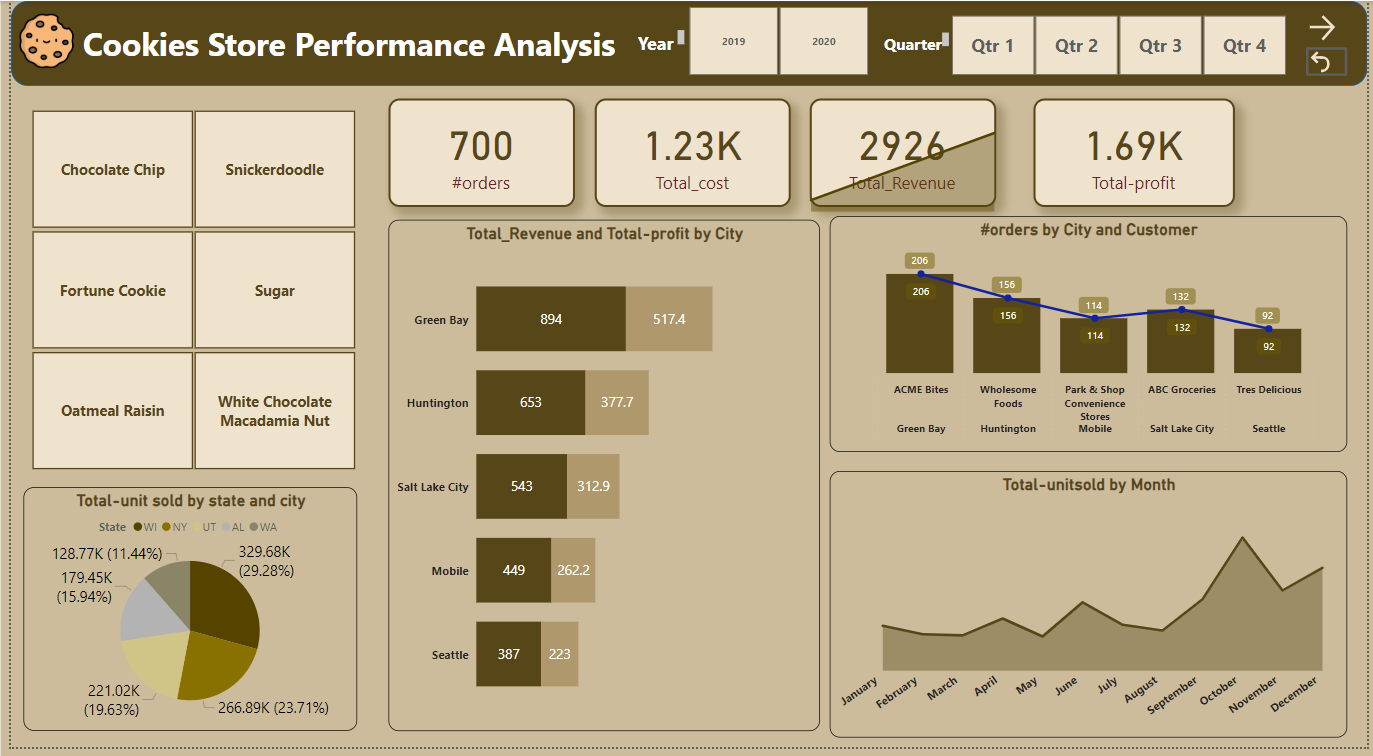

The dashboard page shown, as its layout file describes it:
{"tool":"powerbi","page":{"name":"Dashboard","canvas":[1600,880],"ordinal":0},"visuals":[{"type":"card","fields":{"Values":["DAX.#orders"]},"box":[445.3,115,219.7,128.3],"z":0},{"type":"card","fields":{"Values":["DAX.Total_cost"]},"box":[688.6,115,231.5,128.3],"z":1000},{"type":"card","fields":{"Values":["DAX.Total_Revenue"]},"box":[942.2,115,219.7,128.3],"z":2000},{"type":"card","fields":{"Values":["DAX.Total-profit"]},"box":[1206.2,115,237.4,128.3],"z":3000},{"type":"pieChart","title":"Total-unit sold by state and city","fields":{"Category":["orders.State","orders.City"],"Y":["orders.Units Sold"]},"box":[14.7,573.6,393.7,287.5],"z":4000},{"type":"barChart","fields":{"Category":["orders.City"],"Y":["DAX.Total_Revenue","DAX.Total-profit"]},"box":[445.3,258,508.7,603.1],"z":5000},{"type":"stackedAreaChart","fields":{"Category":["orders.Date.Variation.Date Hierarchy.Month"],"Y":["DAX.Total-unitsold"]},"box":[965.8,554.4,610.5,314.1],"z":6000},{"type":"lineClusteredColumnComboChart","title":"#orders  by City and Customer","fields":{"Category":["Customers.City","Customers.Name"],"Y2":["DAX.#orders"],"Y":["DAX.#orders"]},"box":[965.8,253.6,610.5,278.7],"z":7000},{"type":"shape","box":[0,0,1599.9,100.3],"z":8000},{"type":"textbox","box":[79.7,20.6,658.1,60.5],"z":9000},{"type":"slicer","fields":{"Values":["orders.Product"]},"box":[4.4,126.8,420.2,427.6],"z":10000},{"type":"slicer","fields":{"Values":["orders.Date.Variation.Date Hierarchy.Year"]},"box":[774.1,0,261,94.4],"z":11000},{"type":"slicer","fields":{"Values":["orders.Date.Variation.Date Hierarchy.Quarter"]},"box":[1083.8,10.3,443.8,84],"z":12000},{"type":"image","box":[4.4,10.3,75.2,73.7],"z":13000},{"type":"textbox","box":[734.3,29.5,64.9,41.3],"z":14000},{"type":"textbox","box":[1024.8,32.4,87,38.3],"z":15000},{"type":"actionButton","box":[1527.6,54.6,48.7,33.9],"z":16000},{"type":"actionButton","box":[1526.1,11.8,50.1,39.8],"z":17000},{"type":"stackedAreaChart","fields":{"Category":["orders.Date.Variation.Date Hierarchy.Year"],"Y":["DAX.Total_Revenue"]},"box":[931.9,115,246.2,128.3],"z":18000}]}

Visuals, with their boxes in screenshot pixels (x1, y1, x2, y2), scaled from the page's 1600x880 canvas onto the 1373x756 screenshot:
card - DAX.#orders: bbox(382, 99, 571, 209)
card - DAX.Total_cost: bbox(591, 99, 790, 209)
card - DAX.Total_Revenue: bbox(809, 99, 997, 209)
card - DAX.Total-profit: bbox(1035, 99, 1239, 209)
"Total-unit sold by state and city" pieChart: bbox(13, 493, 350, 740)
barChart - orders.City x DAX.Total_Revenue: bbox(382, 222, 819, 740)
stackedAreaChart - orders.Date.Variation.Date Hierarchy.Month x DAX.Total-unitsold: bbox(829, 476, 1353, 746)
"#orders  by City and Customer" lineClusteredColumnComboChart: bbox(829, 218, 1353, 457)
shape: bbox(0, 0, 1372, 86)
textbox: bbox(68, 18, 633, 70)
slicer - orders.Product: bbox(4, 109, 364, 476)
slicer - orders.Date.Variation.Date Hierarchy.Year: bbox(664, 0, 888, 81)
slicer - orders.Date.Variation.Date Hierarchy.Quarter: bbox(930, 9, 1311, 81)
image: bbox(4, 9, 68, 72)
textbox: bbox(630, 25, 686, 61)
textbox: bbox(879, 28, 954, 61)
actionButton: bbox(1311, 47, 1353, 76)
actionButton: bbox(1310, 10, 1353, 44)
stackedAreaChart - orders.Date.Variation.Date Hierarchy.Year x DAX.Total_Revenue: bbox(800, 99, 1011, 209)
